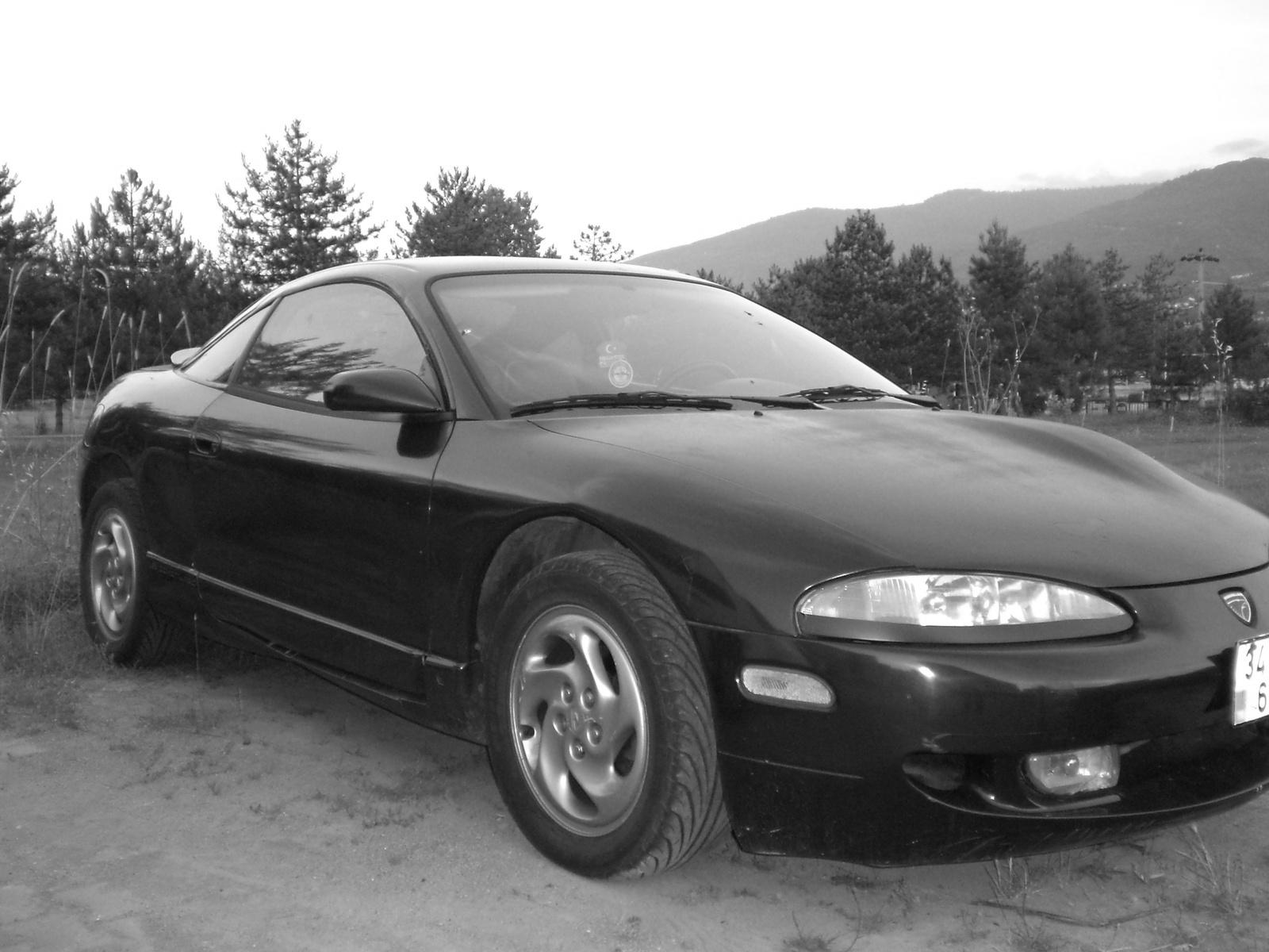car: (79, 255, 1267, 891)
